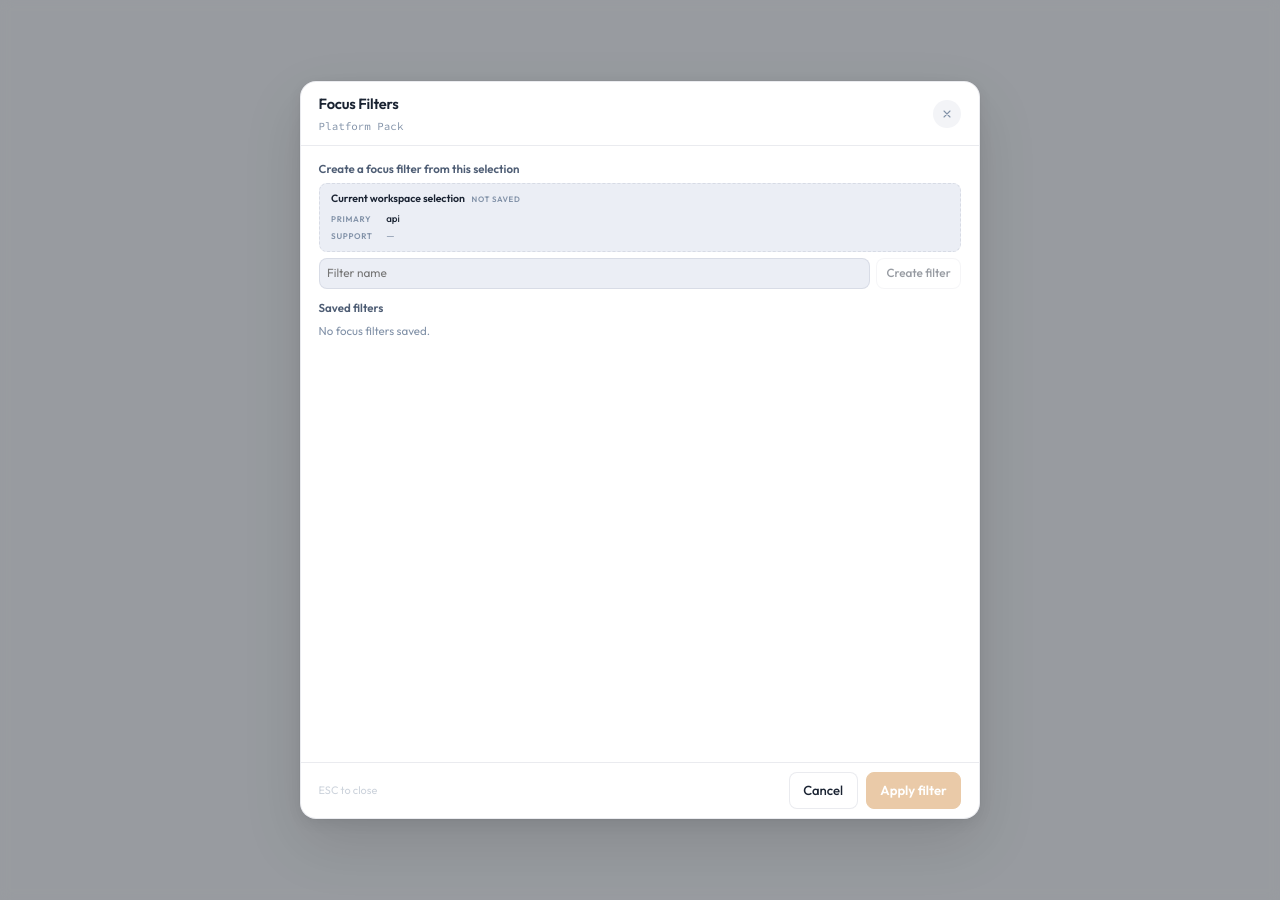
Test: FocusFilterModal › renders Create filter as visually active when a unique name is entered
The width and height of the screenshot is (1280, 900).
Expected: the button "Create filter" is disabled, [876,258,962,289]
In the field labelled "Filter name": (594, 273) [319,258,870,289], type "Primary API"
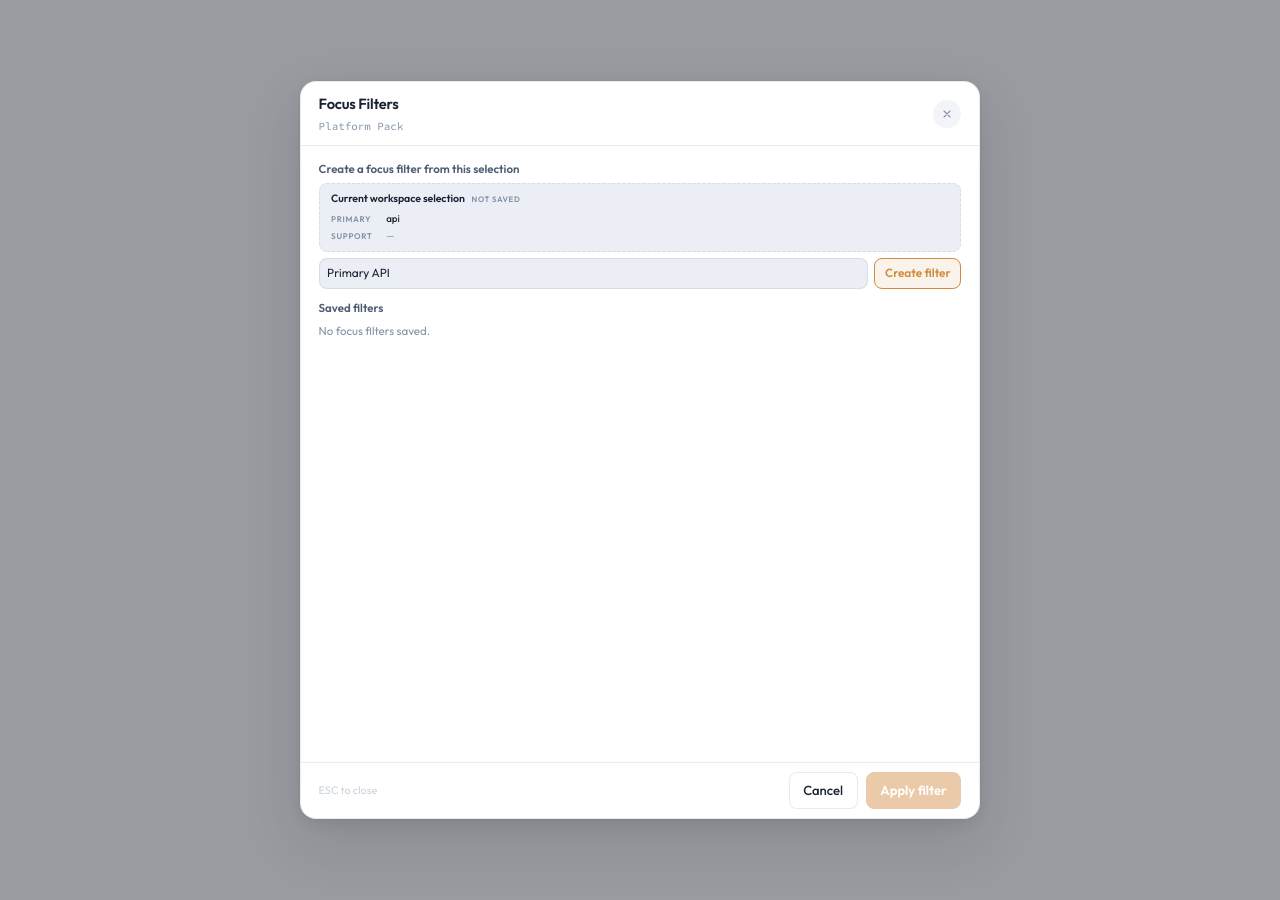
Now the button "Create filter" is enabled, box [874,258,961,289]
